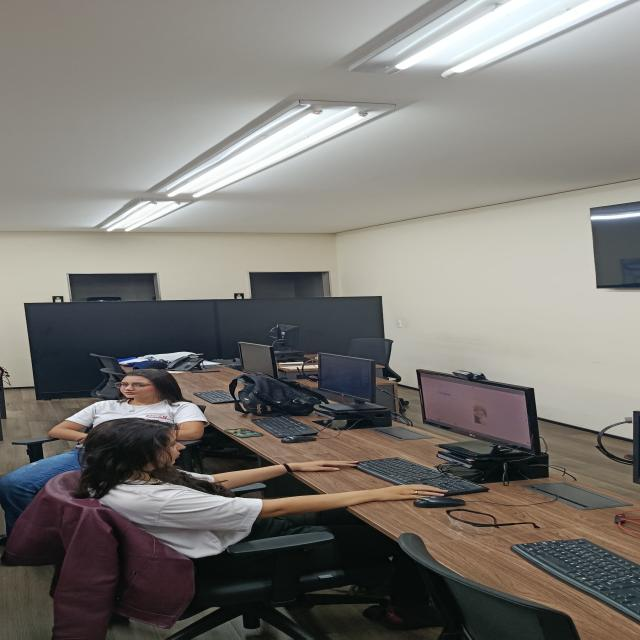sem_oculos: (115, 383, 148, 388)
